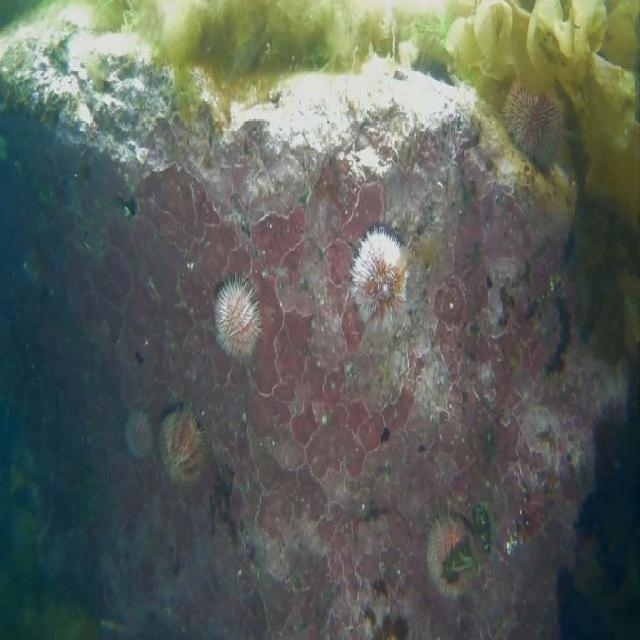Deniz Kestanesi: (348, 224, 409, 331), (502, 75, 568, 173), (424, 504, 474, 598), (213, 269, 262, 360), (159, 400, 209, 484), (124, 410, 151, 458)
